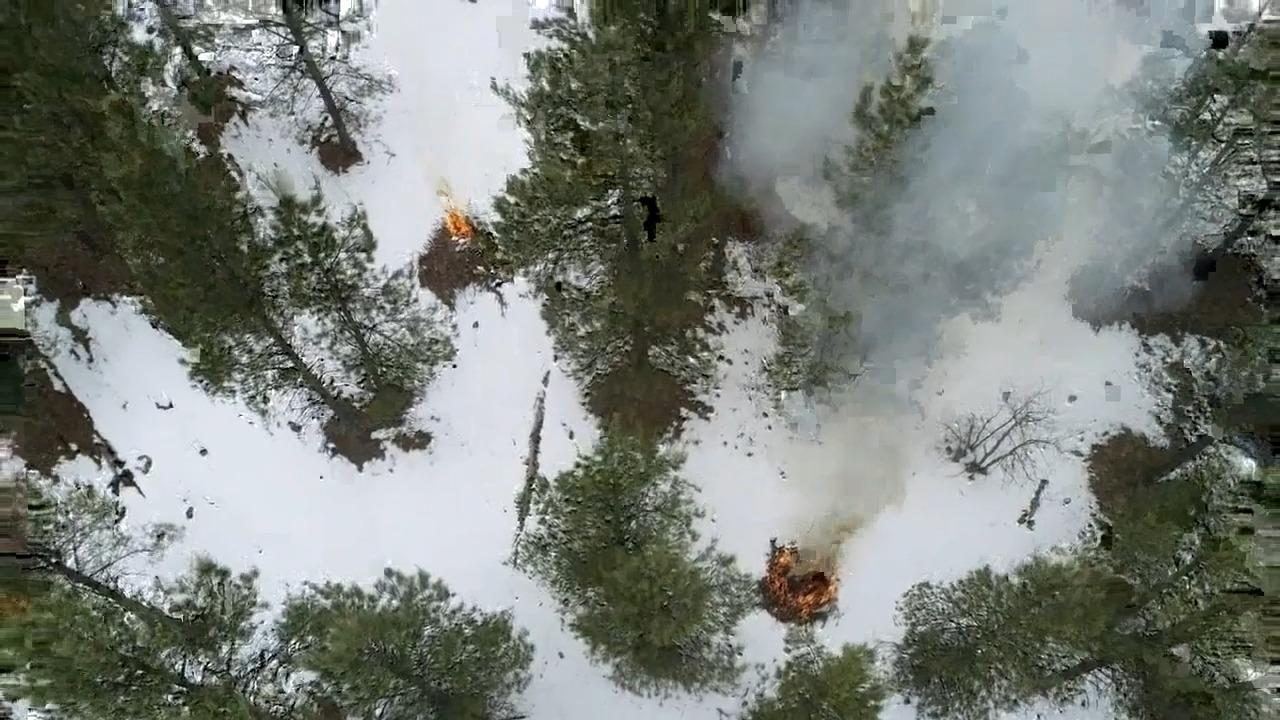fire: (759, 520, 854, 620), (436, 196, 473, 246)
smoke: (850, 0, 1245, 304), (729, 0, 900, 208)
